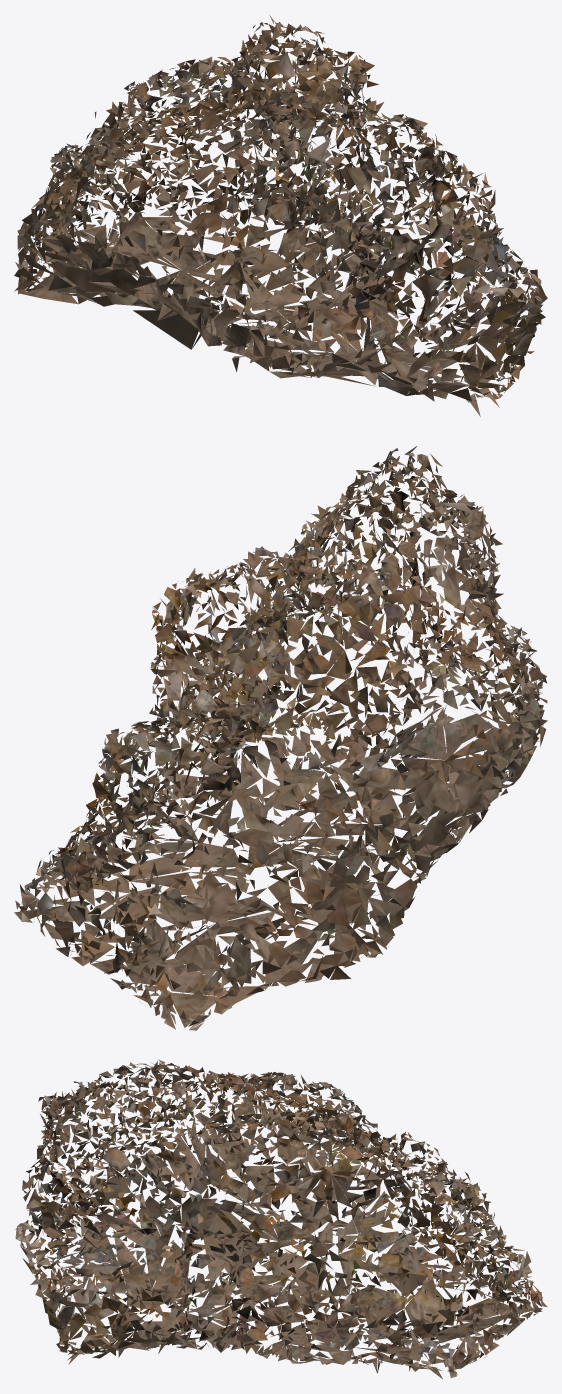
File: ph_boulder_01.glb
3 renders of one model, top to bottom at view 1: azimuth 30°, elevation 25°; view 2: azimuth 150°, elevation 25°; view 3: azimuth 270°, elevation 25°, orthographic. The views are drawn at different scales.
Parts seen in each view (by area): view 1: boulder_01; view 2: boulder_01; view 3: boulder_01.
Part boxes in pixels (x1,y1,x2,y2): boulder_01: (14, 15, 547, 416); boulder_01: (14, 446, 547, 1030); boulder_01: (15, 1059, 547, 1378).
Size of the model in its own units: 1.28 by 1 by 1.85.
1 material, 1 textured.
